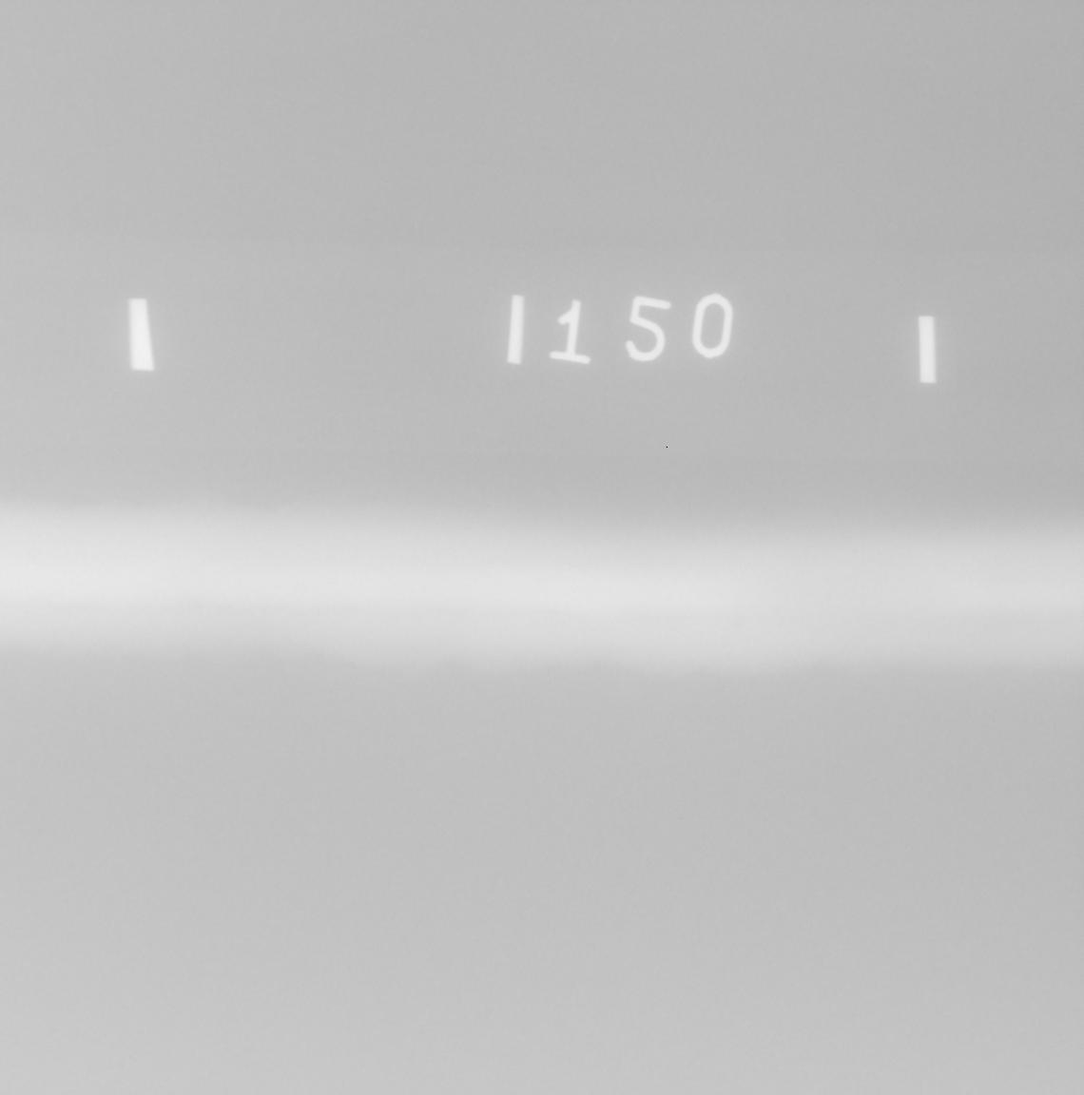Pore/Porosity: (734, 623, 743, 626)
